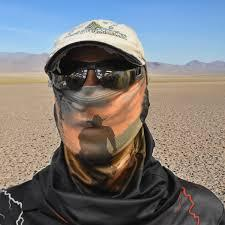cap: (42, 8, 148, 67)
scarf-kerchief: (51, 81, 156, 196)
sunglasses: (42, 51, 143, 93)
